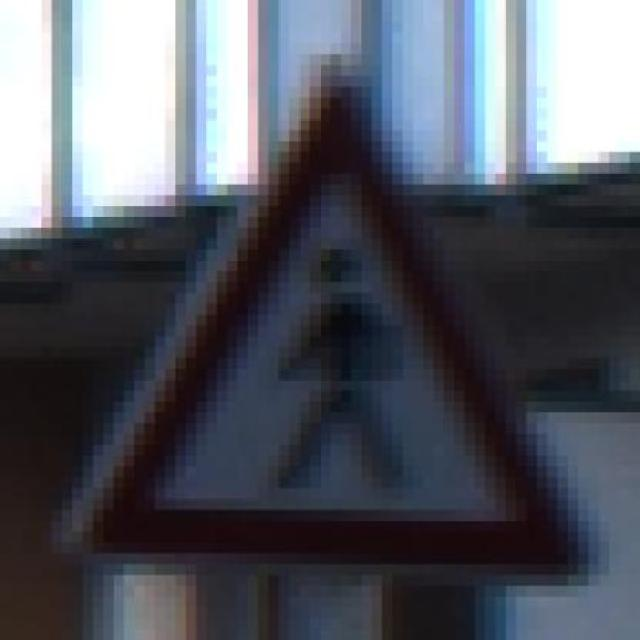Pedestrian Crossing: (51, 43, 588, 586)
